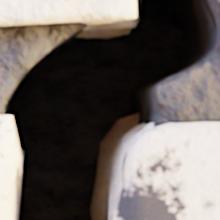brick: (0, 0, 135, 26)
broken_brick: (112, 122, 219, 219), (0, 115, 18, 219)
crack: (1, 0, 219, 219)
